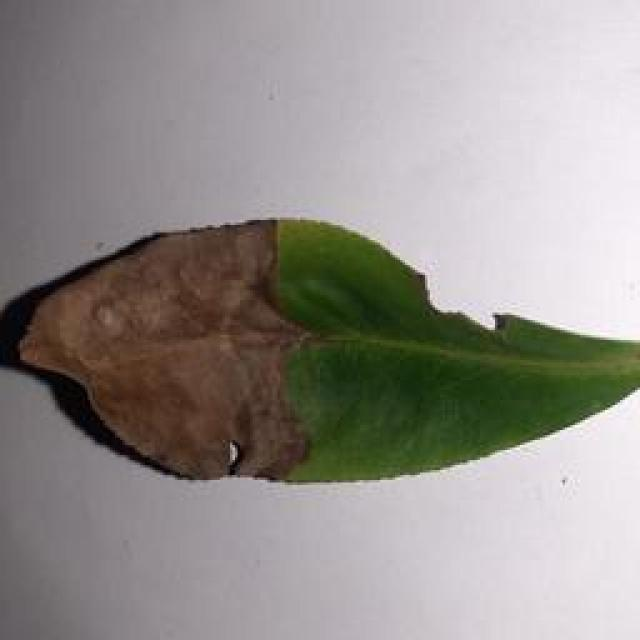Brown Blight: (0, 212, 640, 479)
